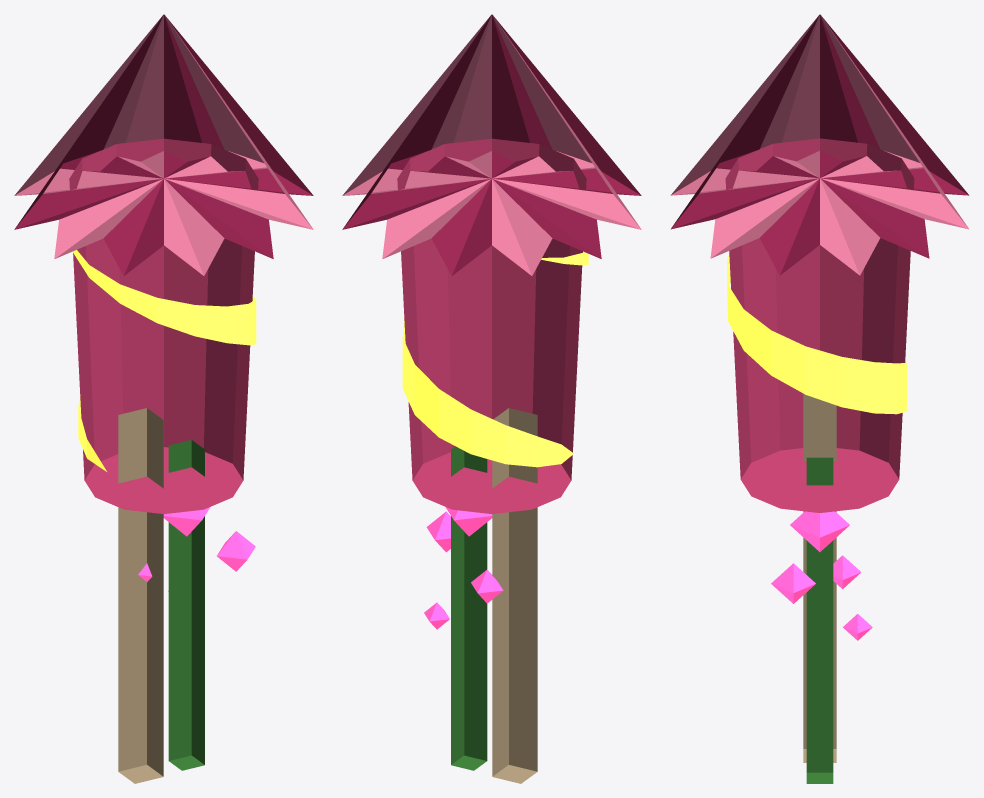
The model's file is rocket_rose_lit.glb.
3 views of the same model, side by side, from view 1: azimuth 30°, elevation 25°; view 2: azimuth 150°, elevation 25°; view 3: azimuth 270°, elevation 25° (orthographic).
Visible parts, largest first — view 1: body, fan_a, fan_b, stick, fuse, emblem, sparks; view 2: body, fan_a, fan_b, stick, fuse, emblem, sparks; view 3: body, fan_a, fan_b, emblem, fuse, stick, sparks.
Part boxes in pixels (x1,y1,x2,y2): body: (69,138,258,513); fan_a: (14,14,313,275); fan_b: (14,14,313,275); stick: (118,408,163,783); fuse: (168,440,204,770); emblem: (72,250,256,471); sparks: (138,507,255,591); body: (397,138,586,513); fan_a: (342,14,641,275); fan_b: (342,14,641,275); stick: (492,408,537,783); fuse: (451,446,487,770); emblem: (402,251,588,467); sparks: (424,507,503,629); body: (725,138,914,512); fan_a: (671,14,969,275); fan_b: (670,14,968,275); emblem: (727,255,907,414); fuse: (806,457,833,783); stick: (803,393,836,762); sparks: (771,511,872,640).
Bounding box in the file's own units: 0.396 × 1.1 × 0.396.
